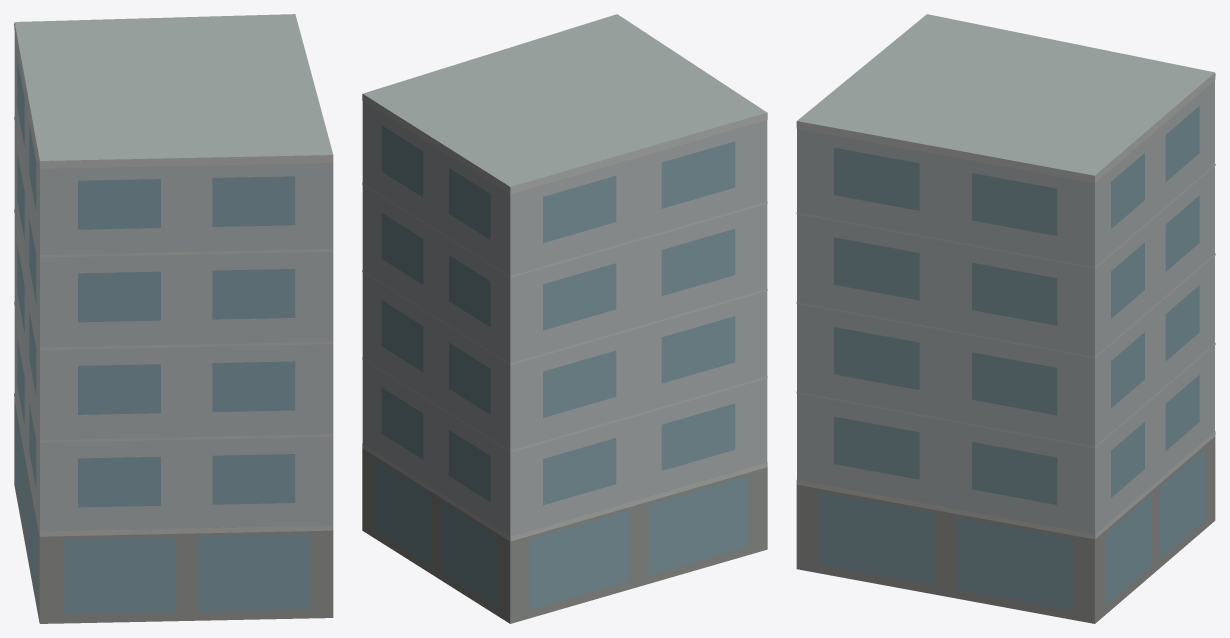
The model's file is survey-upis-32727132.glb.
3 views of the same model, side by side, from view 1: azimuth 30°, elevation 25°; view 2: azimuth 150°, elevation 25°; view 3: azimuth 270°, elevation 25° (orthographic). The views are drawn at different scales.
Parts seen in each view (by area): view 1: survey-upis-32727132.tmp; view 2: survey-upis-32727132.tmp; view 3: survey-upis-32727132.tmp.
Part boxes in pixels (bbox=[...]): survey-upis-32727132.tmp: bbox=[14, 14, 333, 623]; survey-upis-32727132.tmp: bbox=[362, 14, 767, 623]; survey-upis-32727132.tmp: bbox=[796, 14, 1215, 623].
Bounding box in the file's own units: 11.09 × 14.3 × 12.12.
